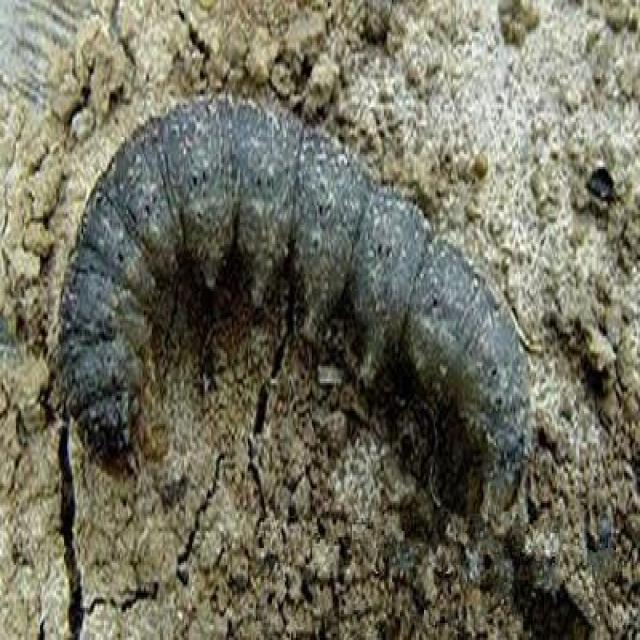armyworm: (72, 98, 533, 485)
